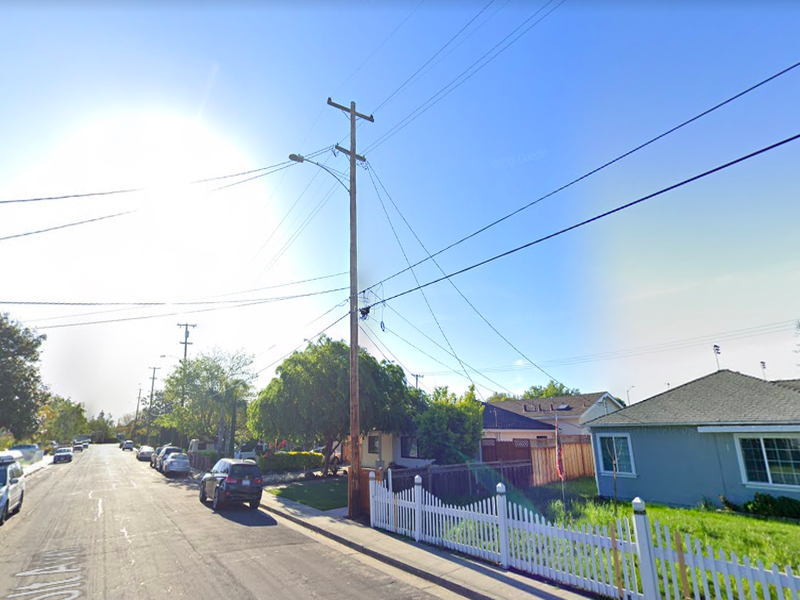tree: (245, 332, 390, 477)
utility_pole: (320, 83, 380, 171)
